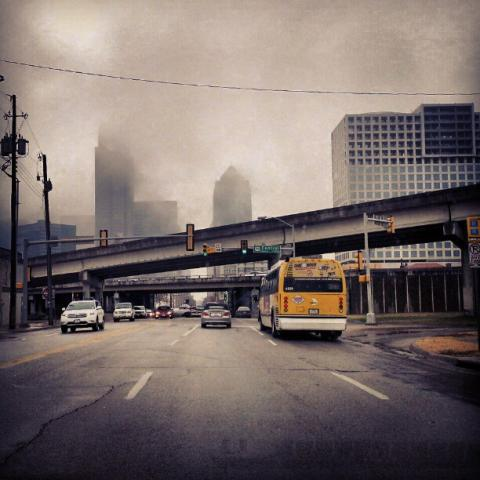bus: (257, 261, 348, 341)
car: (60, 299, 106, 335), (201, 302, 232, 330), (113, 302, 136, 323), (154, 305, 174, 320), (174, 306, 192, 318), (235, 307, 251, 318), (134, 306, 146, 318), (191, 309, 202, 317), (145, 310, 155, 318)
